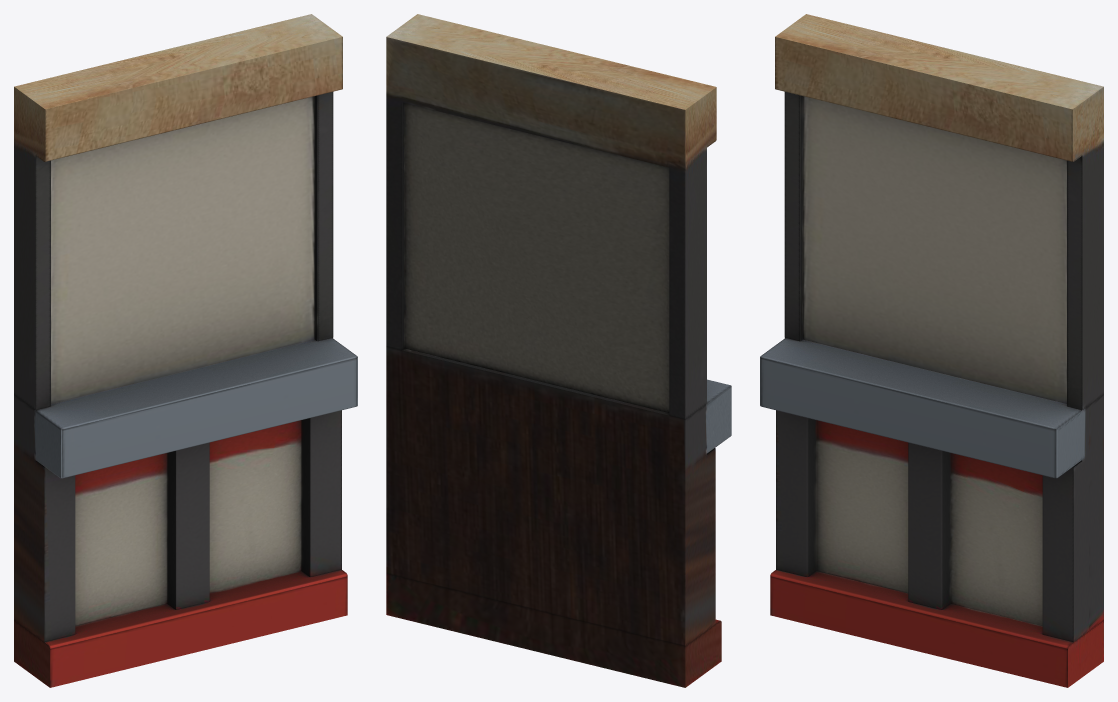
Rendered from D_Wall.fbx.
The picture shows the model from 3 angles, left to right: view 1: azimuth 30°, elevation 25°; view 2: azimuth 150°, elevation 25°; view 3: azimuth 330°, elevation 25°; orthographic projection.
Visible parts, largest first — view 1: pCube34; view 2: pCube34; view 3: pCube34.
Part boxes in pixels (left/top/right/bottom): pCube34: left=14, top=14, right=357, bottom=687; pCube34: left=386, top=14, right=731, bottom=687; pCube34: left=760, top=14, right=1103, bottom=687.
Size of the model in its own units: 2.9 by 5.35 by 0.7893.
Materials: 1 (1 with a texture image).
